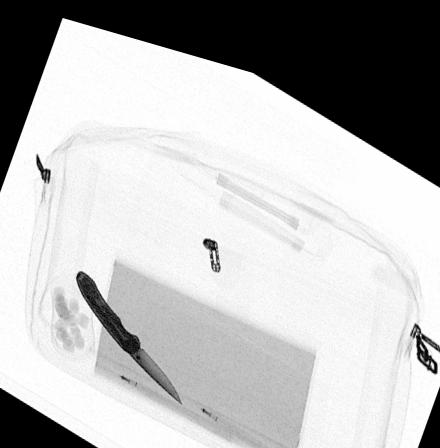Knife: (73, 263, 183, 393)
